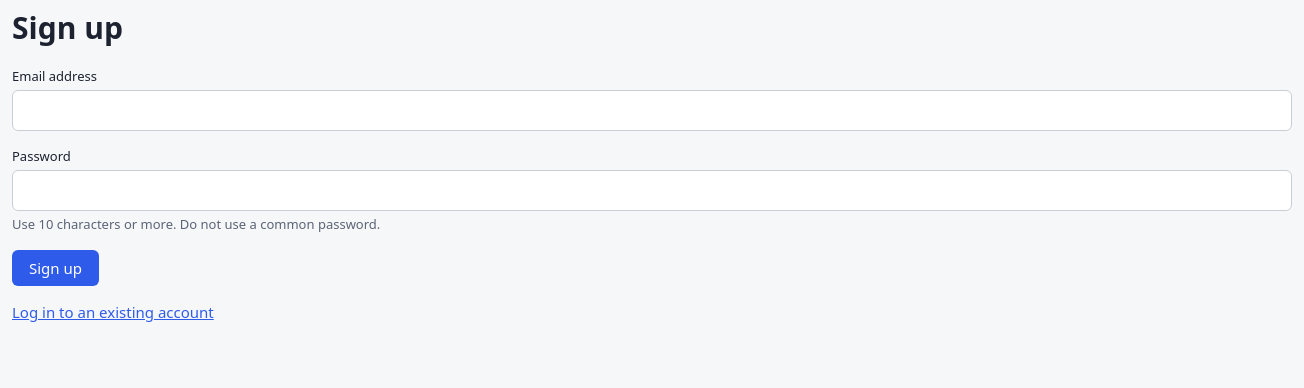
Test: auth requirements › AUTH-006 closed sign-up shows that sign-up is closed
In the field labelled "Email address": {"x": 652, "y": 110} top-left (12, 90), bottom-right (1292, 131), type "new@example.com"
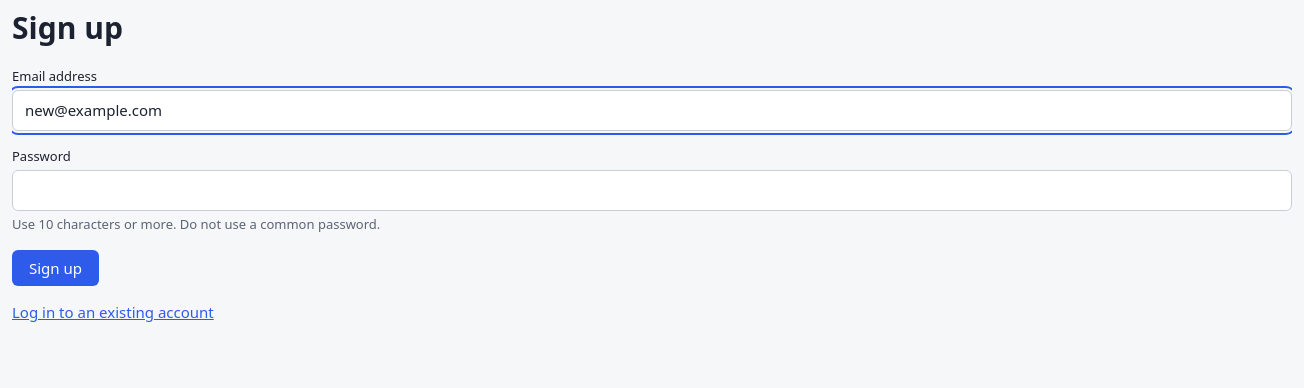
In the password field labelled "Password": {"x": 652, "y": 190} top-left (12, 170), bottom-right (1292, 211), type "a-long-password-1"
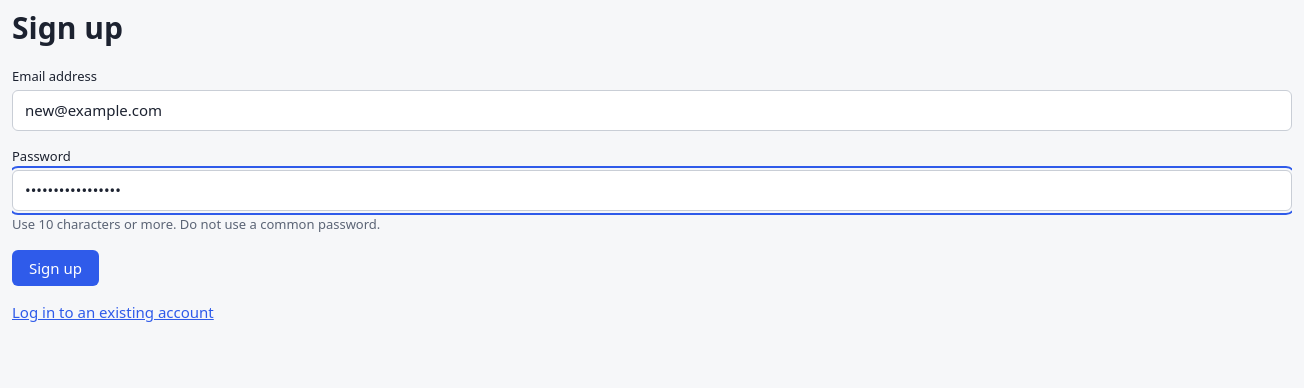
Click the button "Sign up": {"x": 56, "y": 268} top-left (12, 250), bottom-right (99, 286)
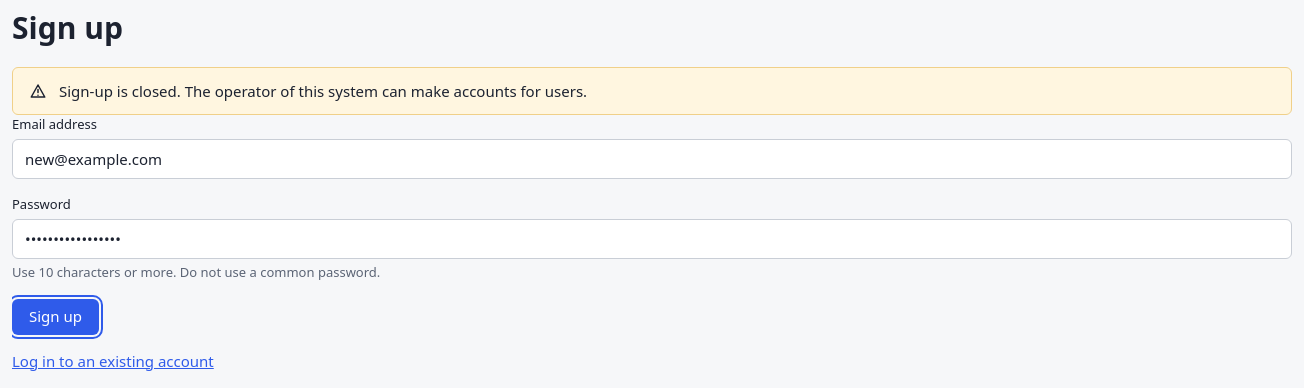
Check: the text "Sign-up is closed. The operator of this system can make accounts for users." is shown, box top-left (59, 81), bottom-right (587, 101)
